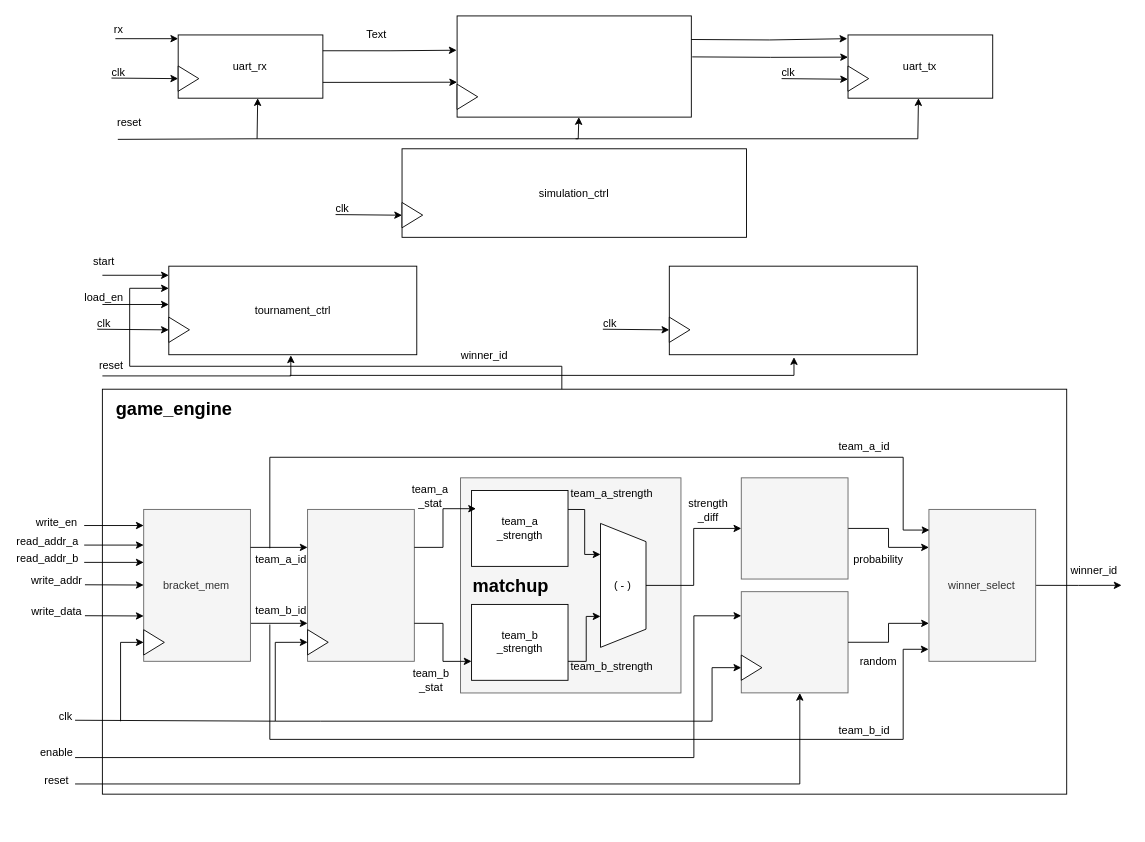
Image size: 1145x842. Some labels were removed from this diagram. The box of each missing label's shape, as (x1, y1, x2, y2) in pixels:
prng: (740, 591, 848, 693)
prob_lut: (740, 477, 848, 579)
result_counter: (668, 265, 917, 355)
team_stat _mem: (307, 509, 414, 661)
uart_ctrl: (456, 15, 691, 117)
